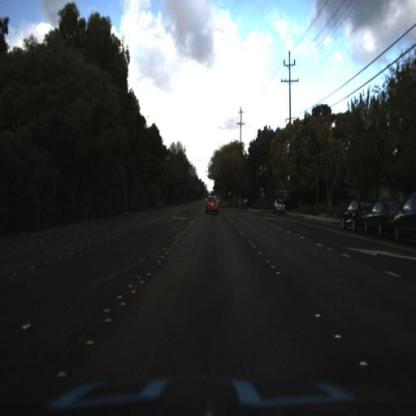car: (365, 199, 403, 239), (391, 195, 416, 248), (341, 199, 369, 234), (204, 191, 222, 221), (272, 197, 287, 217)
